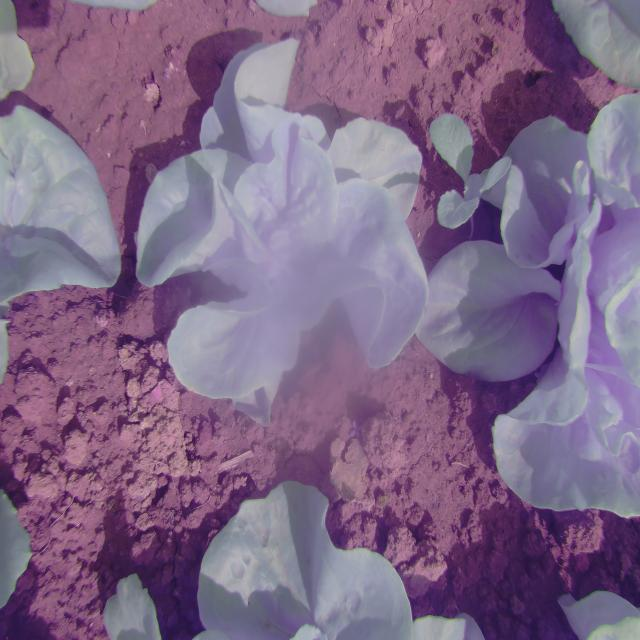vege: (127, 32, 430, 422)
